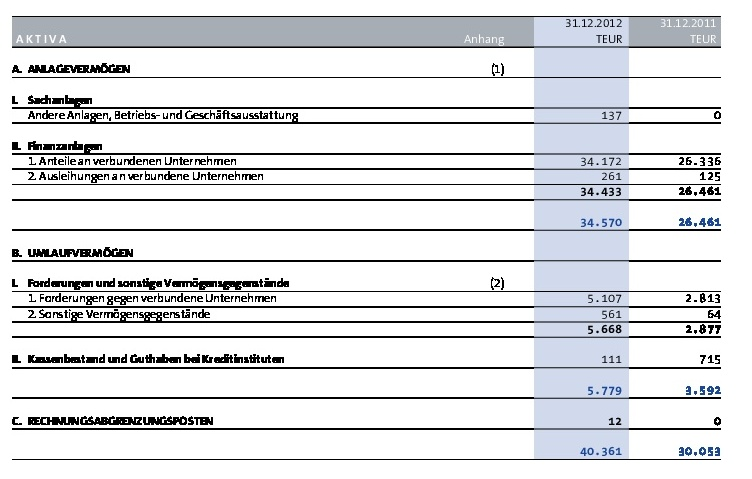table: (0, 0, 752, 479)
